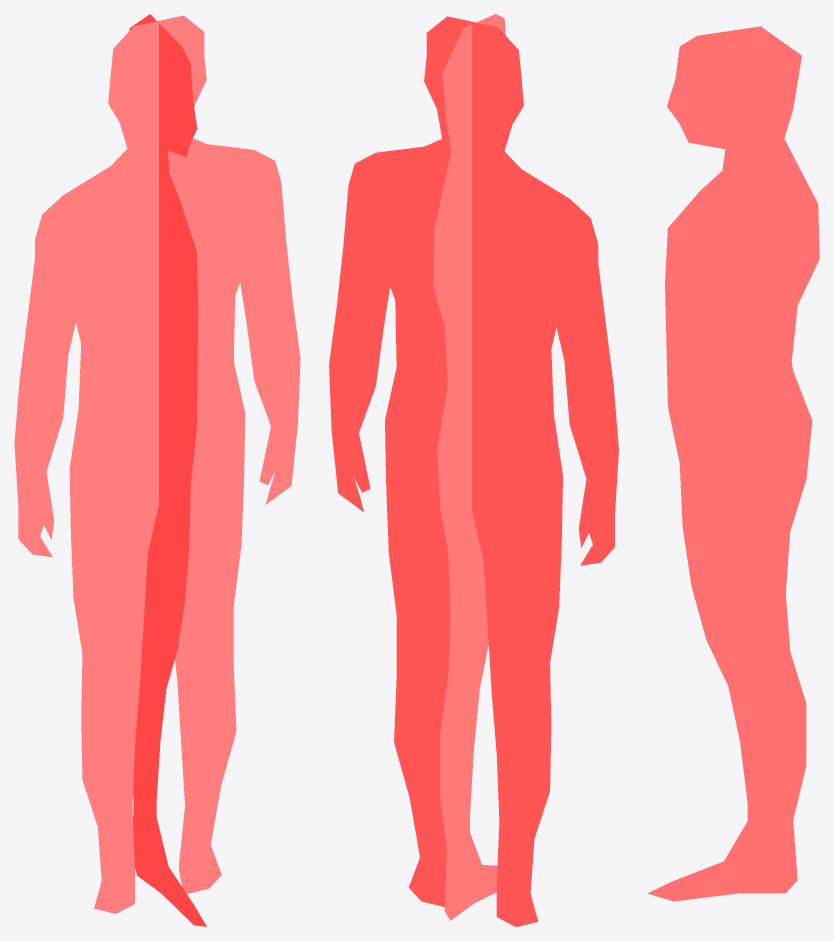
Rendered from 6ftPerson.fbx.
3 views of the same model, side by side, from view 1: azimuth 30°, elevation 25°; view 2: azimuth 150°, elevation 25°; view 3: azimuth 270°, elevation 25° (orthographic).
Visible parts, largest first — view 1: Person6FTGeo; view 2: Person6FTGeo; view 3: Person6FTGeo.
Boxes of the visible parts, x1,y1,x2,y2 form: Person6FTGeo: (14,14,300,926); Person6FTGeo: (329,14,618,926); Person6FTGeo: (647,26,819,901).
Size of the model in its own units: 62.18 by 183 by 32.62.
